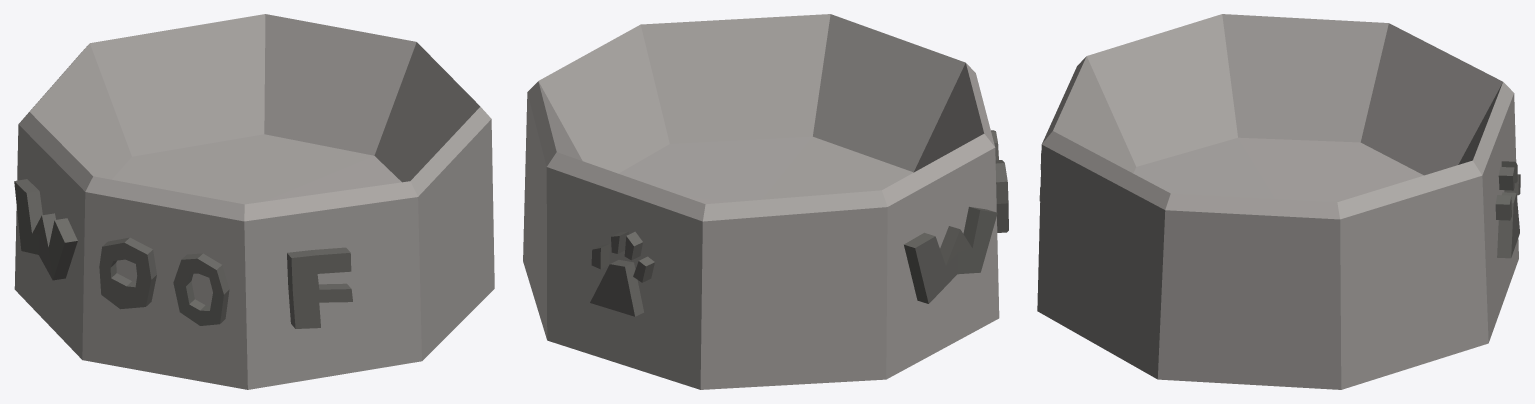
The model's file is Livingroom2_Bowl.fbx.
The picture shows the model from 3 angles, left to right: view 1: azimuth 30°, elevation 25°; view 2: azimuth 150°, elevation 25°; view 3: azimuth 270°, elevation 25°; orthographic projection. The views are drawn at different scales.
Visible parts, largest first — view 1: Livingroom2_Bowl; view 2: Livingroom2_Bowl; view 3: Livingroom2_Bowl.
Boxes of the visible parts, x1,y1,x2,y2 form: Livingroom2_Bowl: (14, 14, 494, 389); Livingroom2_Bowl: (523, 14, 1008, 389); Livingroom2_Bowl: (1037, 14, 1520, 389).
Bounding box in the file's own units: 33.39 × 33.21 × 13.83.
